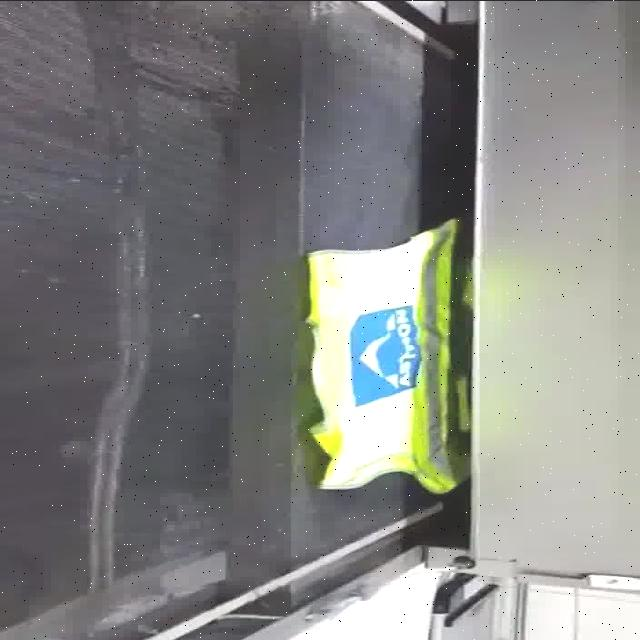Vest: (305, 218, 460, 496)
